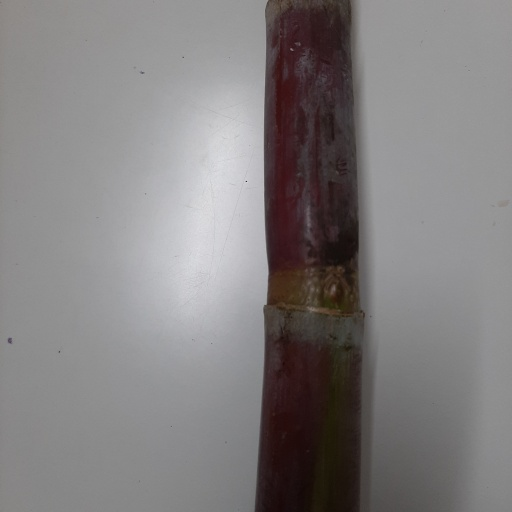Bud: (325, 278, 345, 309)
